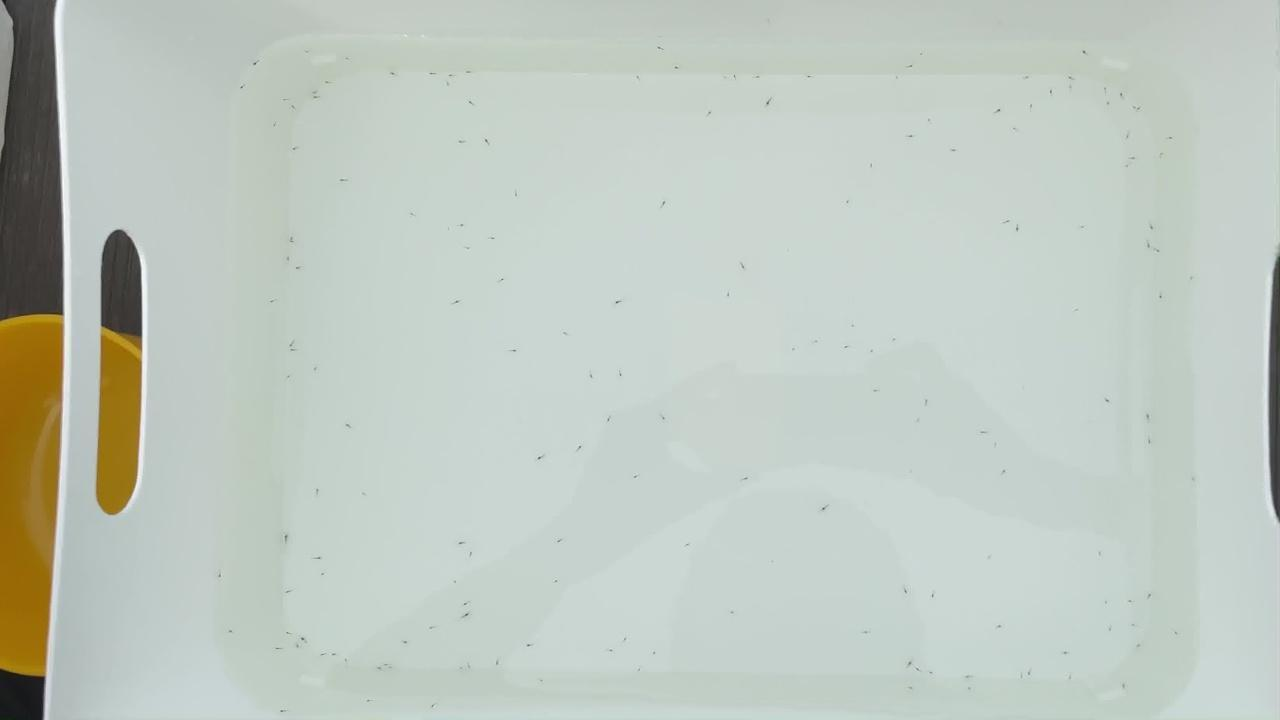shrimp: (460, 69, 473, 77), (865, 163, 878, 171), (1045, 91, 1058, 99), (1114, 91, 1127, 99), (1147, 224, 1160, 232), (1141, 240, 1154, 248), (1079, 224, 1092, 232), (998, 218, 1011, 226), (1132, 644, 1145, 652), (977, 428, 990, 436), (913, 418, 926, 426), (818, 506, 831, 514), (648, 650, 661, 658), (633, 666, 646, 674), (618, 633, 631, 641), (491, 661, 504, 669), (464, 661, 477, 669), (272, 644, 285, 652), (284, 589, 297, 597), (315, 650, 328, 658), (374, 666, 387, 674), (399, 639, 412, 647), (466, 550, 479, 558), (284, 340, 297, 348), (1155, 151, 1167, 159), (989, 439, 1001, 447), (912, 666, 924, 674), (573, 445, 585, 453), (408, 212, 420, 220), (286, 345, 298, 353), (249, 62, 262, 69), (234, 83, 247, 90), (269, 124, 282, 131), (288, 106, 301, 113), (276, 95, 289, 102), (309, 94, 322, 101), (306, 88, 319, 95), (323, 81, 336, 88), (301, 49, 314, 56), (343, 57, 356, 64), (287, 146, 300, 153), (338, 179, 351, 186), (386, 71, 399, 78), (426, 71, 439, 78), (441, 82, 454, 89), (445, 73, 458, 80), (463, 99, 476, 106), (456, 137, 469, 144), (480, 137, 493, 144), (510, 191, 523, 198), (630, 76, 643, 83), (653, 45, 666, 52), (671, 67, 684, 74), (701, 112, 714, 119), (719, 75, 732, 82), (728, 74, 741, 81), (753, 76, 766, 83), (762, 100, 775, 107), (802, 74, 815, 81), (904, 64, 917, 71), (887, 74, 900, 81), (924, 119, 937, 126), (902, 134, 915, 141), (842, 200, 855, 207), (946, 148, 959, 155), (1009, 129, 1022, 136), (1024, 104, 1037, 111), (1023, 73, 1036, 80), (1062, 87, 1075, 94), (1063, 77, 1076, 84), (1099, 86, 1112, 93), (1100, 104, 1113, 111), (1125, 103, 1138, 110), (1131, 105, 1144, 112), (1128, 156, 1141, 163), (1167, 134, 1180, 141), (1151, 247, 1164, 254), (1185, 275, 1198, 282), (1102, 397, 1115, 404), (1142, 416, 1155, 423), (1185, 475, 1198, 482), (1125, 599, 1138, 606), (1097, 598, 1110, 605), (1130, 621, 1143, 628), (1117, 684, 1130, 691), (1064, 673, 1077, 680), (1061, 646, 1074, 653), (1027, 670, 1040, 677), (993, 623, 1006, 630), (920, 398, 933, 405), (868, 388, 881, 395), (887, 336, 900, 343), (866, 350, 879, 357), (841, 344, 854, 351), (846, 321, 859, 328), (811, 337, 824, 344), (787, 345, 800, 352), (737, 261, 750, 268), (722, 293, 735, 300), (611, 298, 624, 305), (657, 201, 670, 208), (898, 587, 911, 594), (927, 593, 940, 600), (903, 661, 916, 668), (924, 669, 937, 676), (904, 684, 917, 691), (964, 686, 977, 693), (963, 674, 976, 681), (726, 610, 739, 617), (682, 541, 695, 548), (606, 647, 619, 654), (536, 678, 549, 685), (525, 641, 538, 648), (455, 664, 468, 671), (358, 697, 371, 704), (283, 629, 296, 636), (297, 635, 310, 642), (288, 643, 301, 650), (227, 630, 240, 637), (317, 571, 330, 578), (312, 554, 325, 561), (326, 650, 339, 657), (339, 657, 352, 664), (382, 663, 395, 670), (427, 624, 440, 631), (460, 602, 473, 609), (448, 580, 461, 587), (454, 542, 467, 549), (552, 539, 565, 546), (629, 474, 642, 481), (659, 415, 672, 422), (602, 416, 615, 423), (617, 372, 630, 379), (507, 349, 520, 356), (497, 275, 510, 282), (488, 236, 501, 243), (460, 248, 473, 255), (455, 223, 468, 230), (442, 227, 455, 234), (286, 236, 299, 243), (280, 256, 293, 263), (291, 264, 304, 271), (280, 374, 293, 381), (308, 366, 321, 373), (344, 423, 357, 430), (310, 488, 323, 495), (994, 107, 1006, 114), (1077, 51, 1089, 58), (1122, 133, 1134, 140), (1122, 165, 1134, 172), (1155, 292, 1167, 299), (1011, 228, 1023, 235), (1144, 439, 1156, 446), (1094, 551, 1106, 558), (1105, 625, 1117, 632), (1144, 592, 1156, 599), (1172, 630, 1184, 637), (1017, 672, 1029, 679), (984, 553, 996, 560), (1000, 469, 1012, 476), (861, 629, 873, 636), (740, 475, 752, 482), (429, 701, 441, 708), (274, 707, 286, 714), (213, 572, 225, 579), (280, 536, 292, 543), (463, 612, 475, 619), (551, 580, 563, 587), (535, 454, 547, 461), (585, 373, 597, 380), (562, 331, 574, 338), (452, 298, 464, 305), (269, 298, 281, 305), (358, 493, 370, 500)
